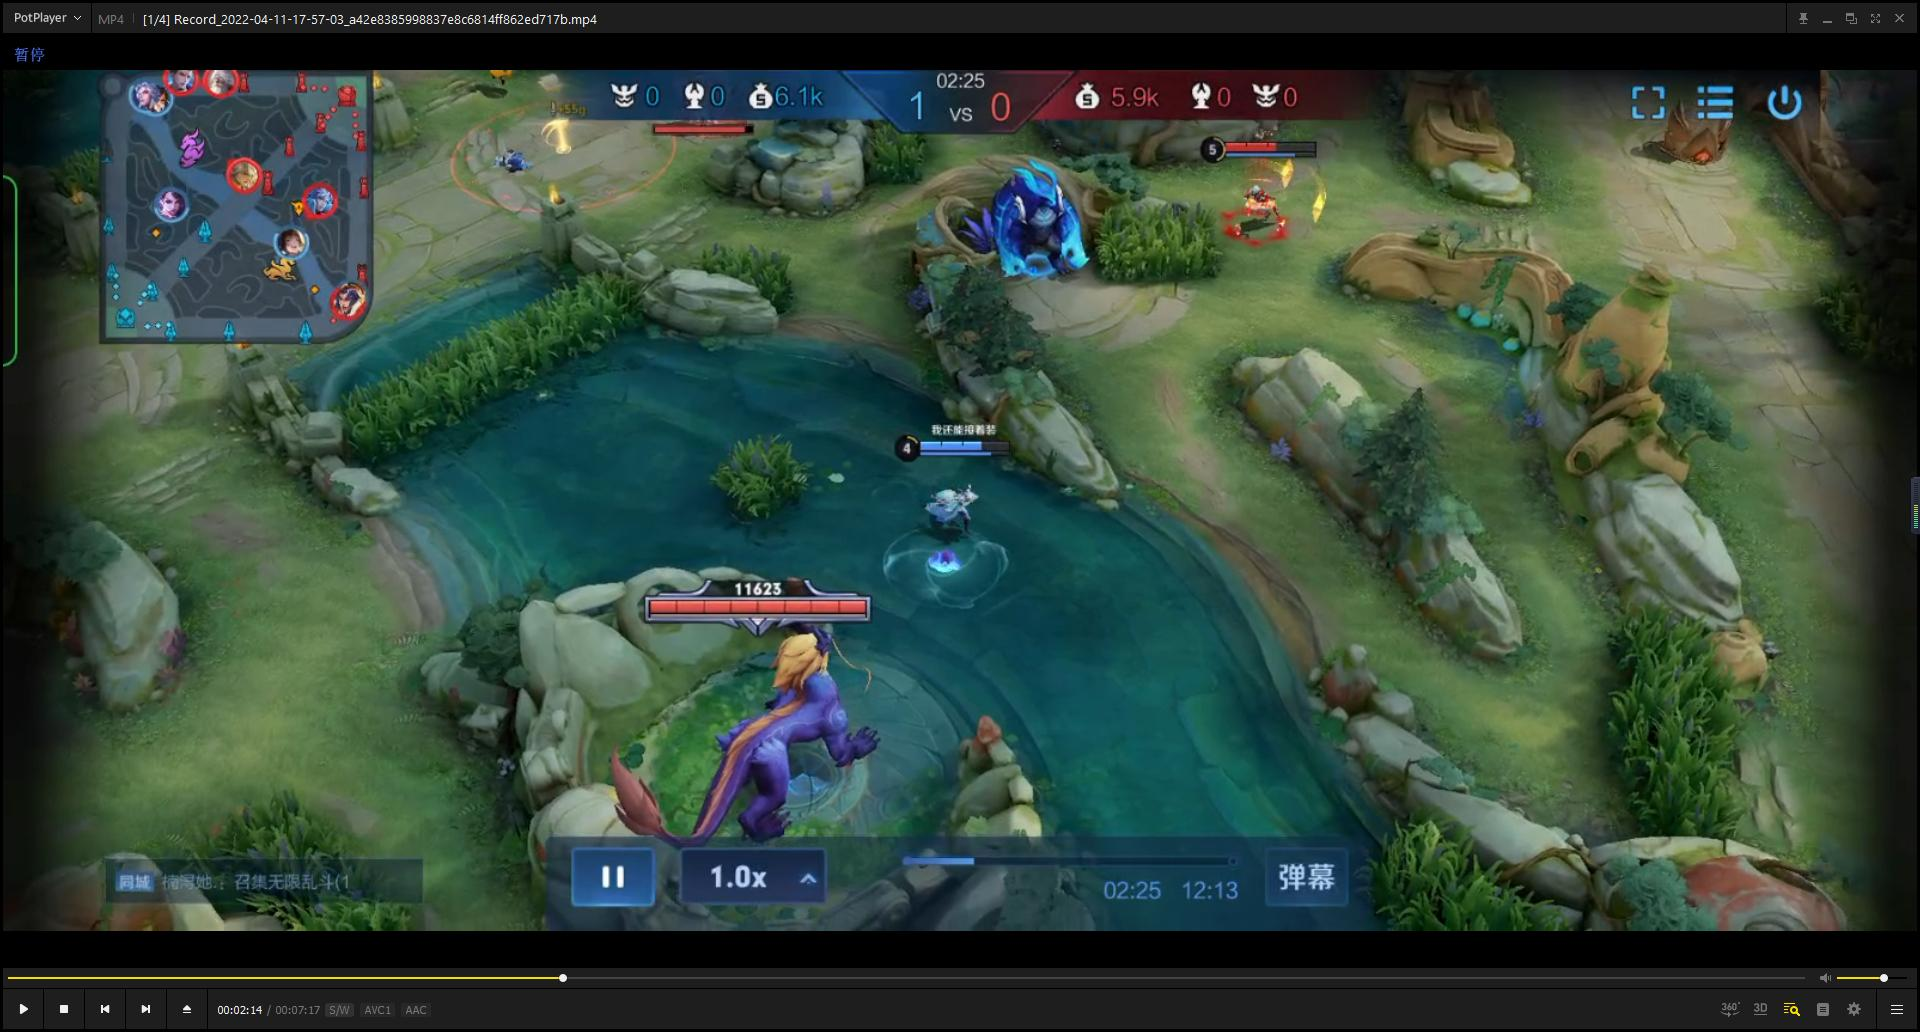BaoJun: (573, 574, 919, 849)
Buff: (977, 149, 1105, 304)
Hero: (1217, 166, 1320, 257), (881, 477, 1013, 539)
Tower: (1642, 92, 1762, 164)
